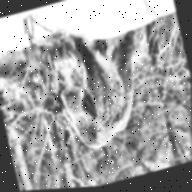boar: (30, 14, 176, 175)
